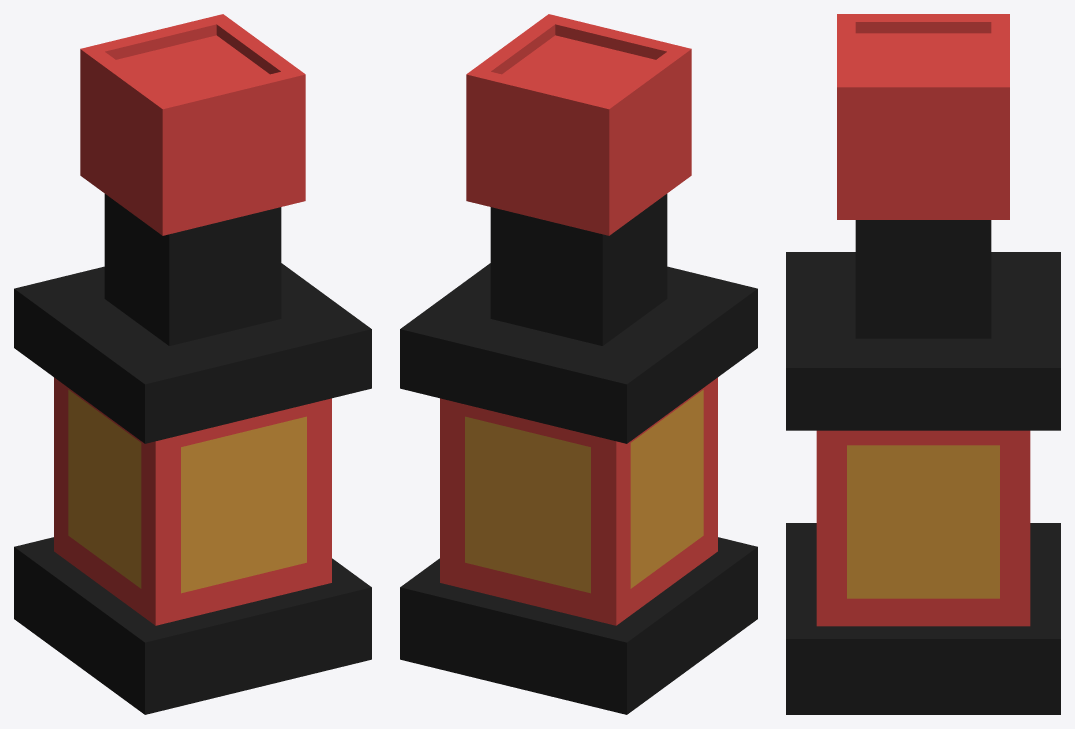
File: Soja.glb
3 views of the same model, side by side, from view 1: azimuth 30°, elevation 25°; view 2: azimuth 150°, elevation 25°; view 3: azimuth 270°, elevation 25° (orthographic). The views are drawn at different scales.
Parts seen in each view (by area): view 1: Salsa; view 2: Salsa; view 3: Salsa.
Boxes of the visible parts, x1=… form: Salsa: x1=14, y1=14, x2=371, y2=714; Salsa: x1=400, y1=14, x2=757, y2=714; Salsa: x1=786, y1=14, x2=1060, y2=714.
Bounding box in the file's own units: 3.45 × 8.4 × 3.45.
